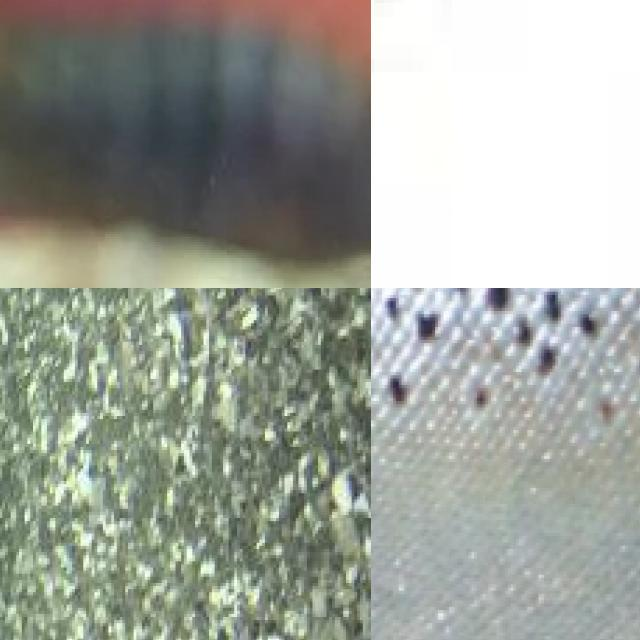fish: (0, 0, 371, 288), (371, 507, 640, 640)
